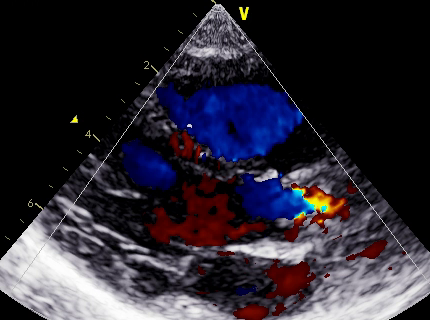AR: (283, 183, 354, 237)
